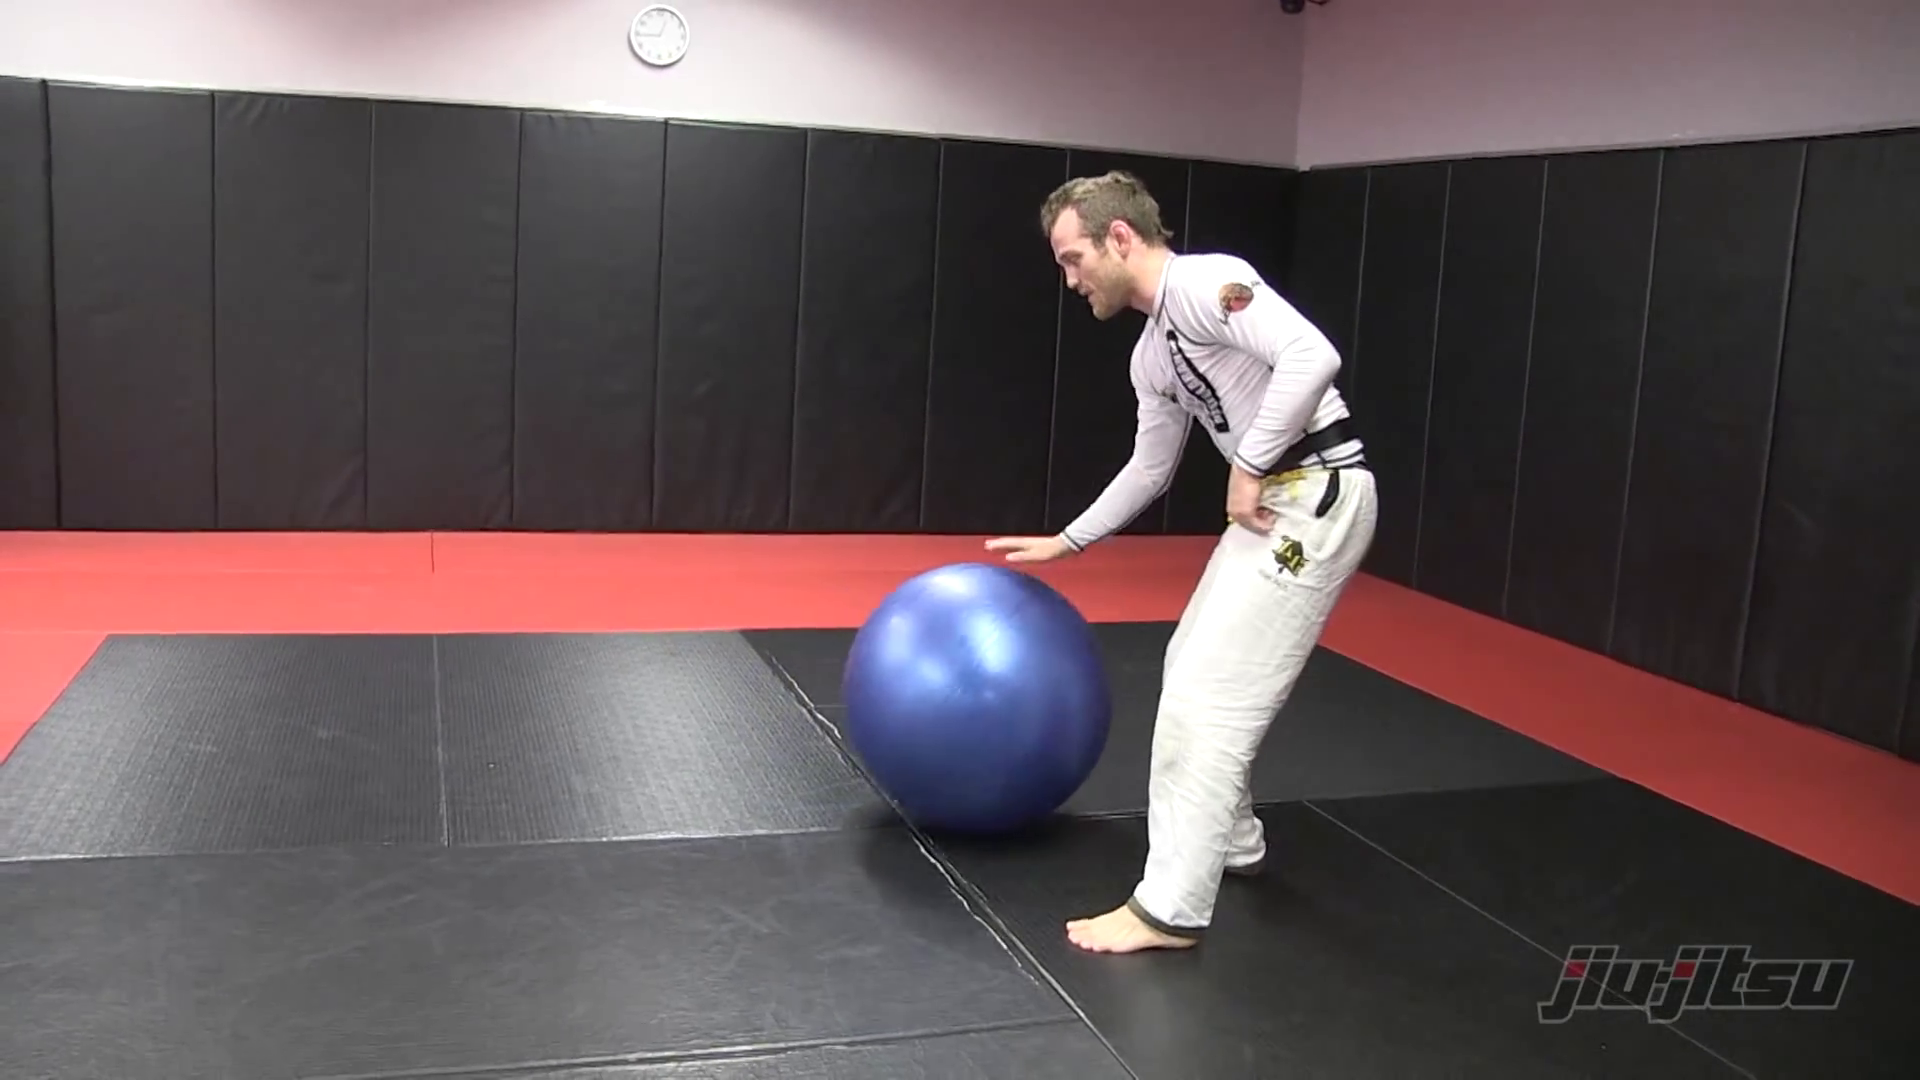yogaball: (816, 551, 1127, 857)
